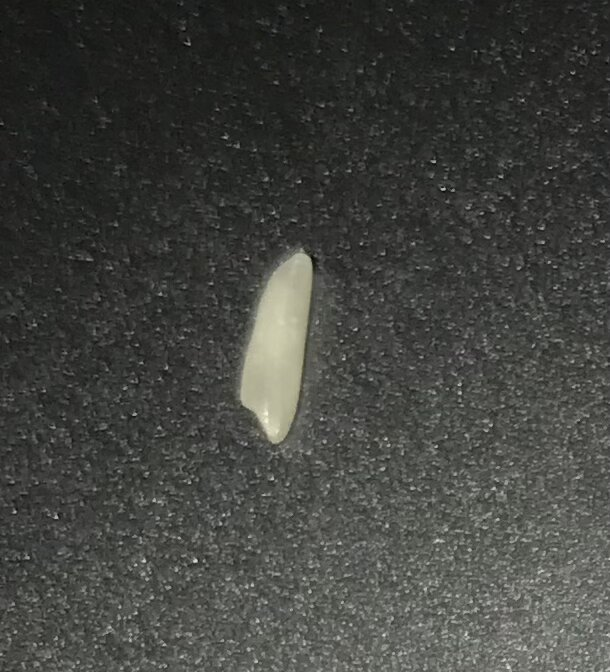Gao Long Lai: (243, 242, 320, 453)
